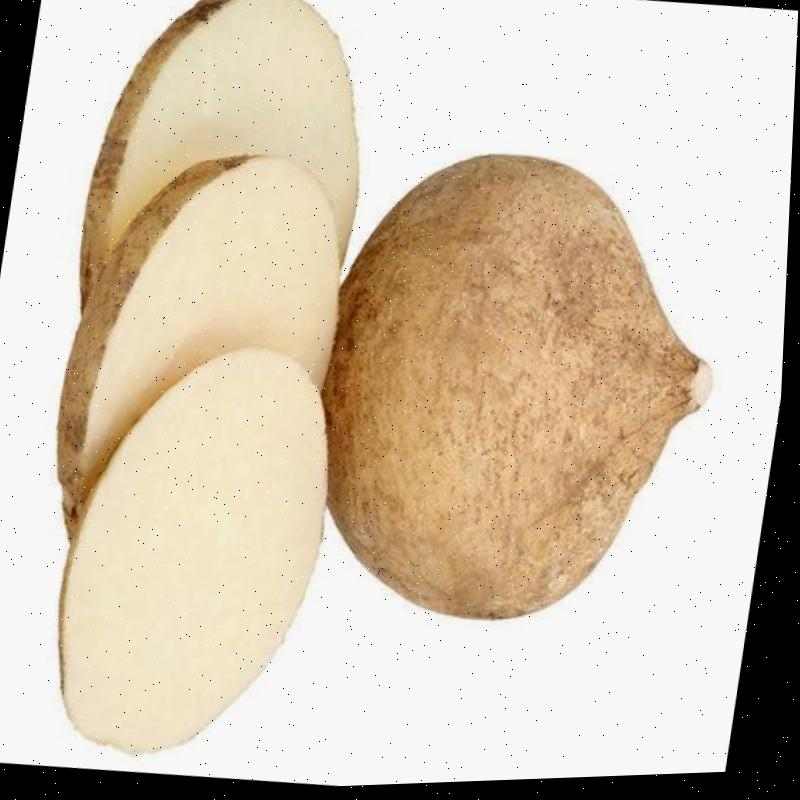vegetable peels: (316, 152, 713, 622), (52, 345, 326, 757), (52, 154, 340, 542), (76, 0, 358, 314)
